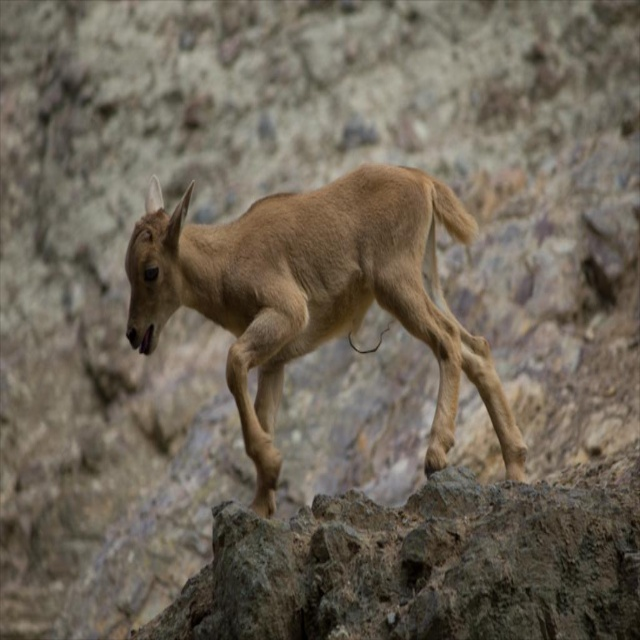Goat: (126, 174, 533, 524)
